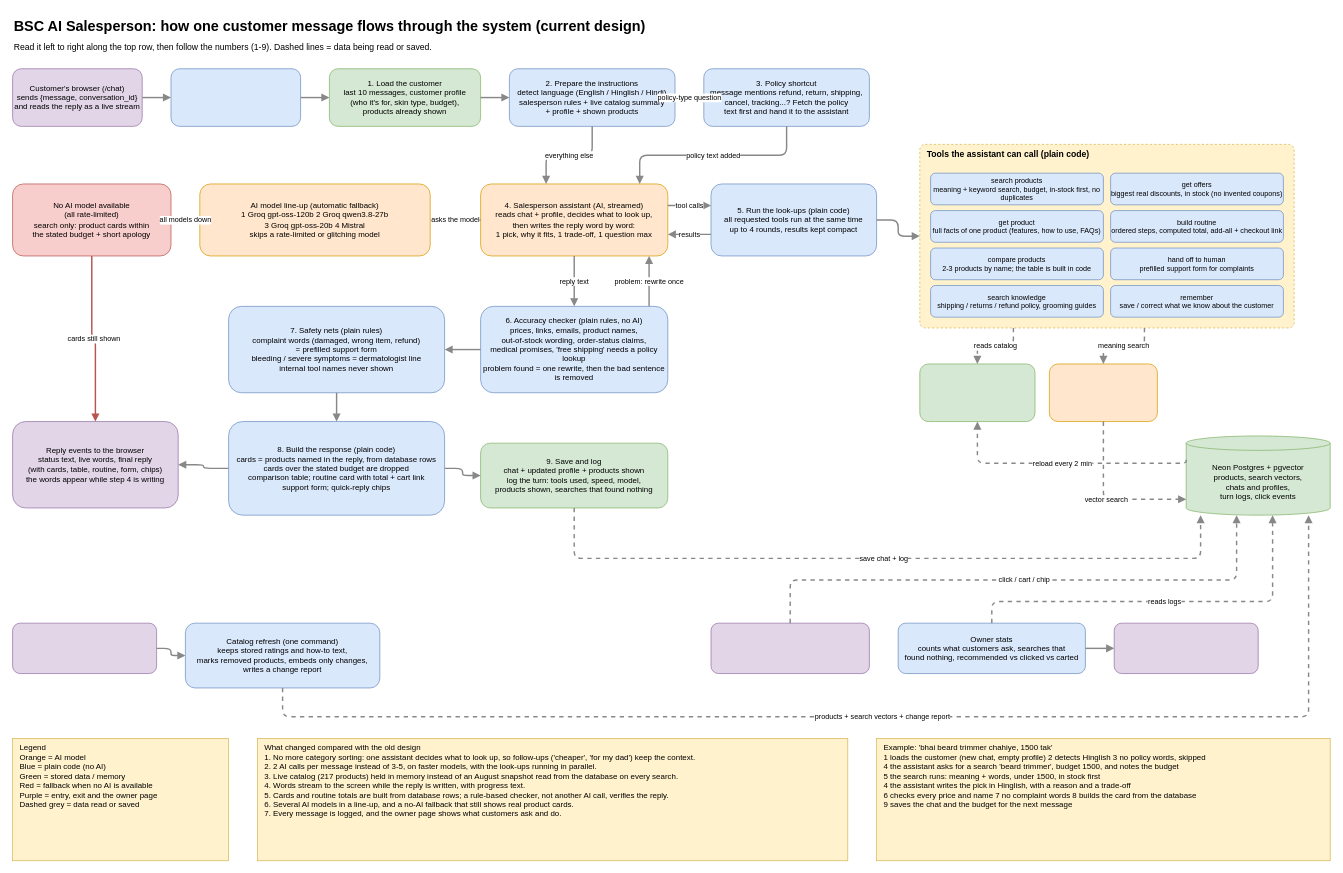
Some shapes in this 1343 by 873 pixel diagram are drawn without their labels. Here are the shapes that lost their labels. From the top down, the centre of each, then its label:
(235,97): Server entry checks the request is valid, streams events back
(977,392): In-memory catalog 217 live products reloaded every 2 min
(1103,392): Mistral embeddings turns a search into numbers (meaning search)
(84,648): Live BSC store feed price, stock, new and removed products
(789,648): Browser reports clicks product click, add to cart, chip tap, checkout
(1185,648): Owner page (/admin) insights, speed, catalog freshness
